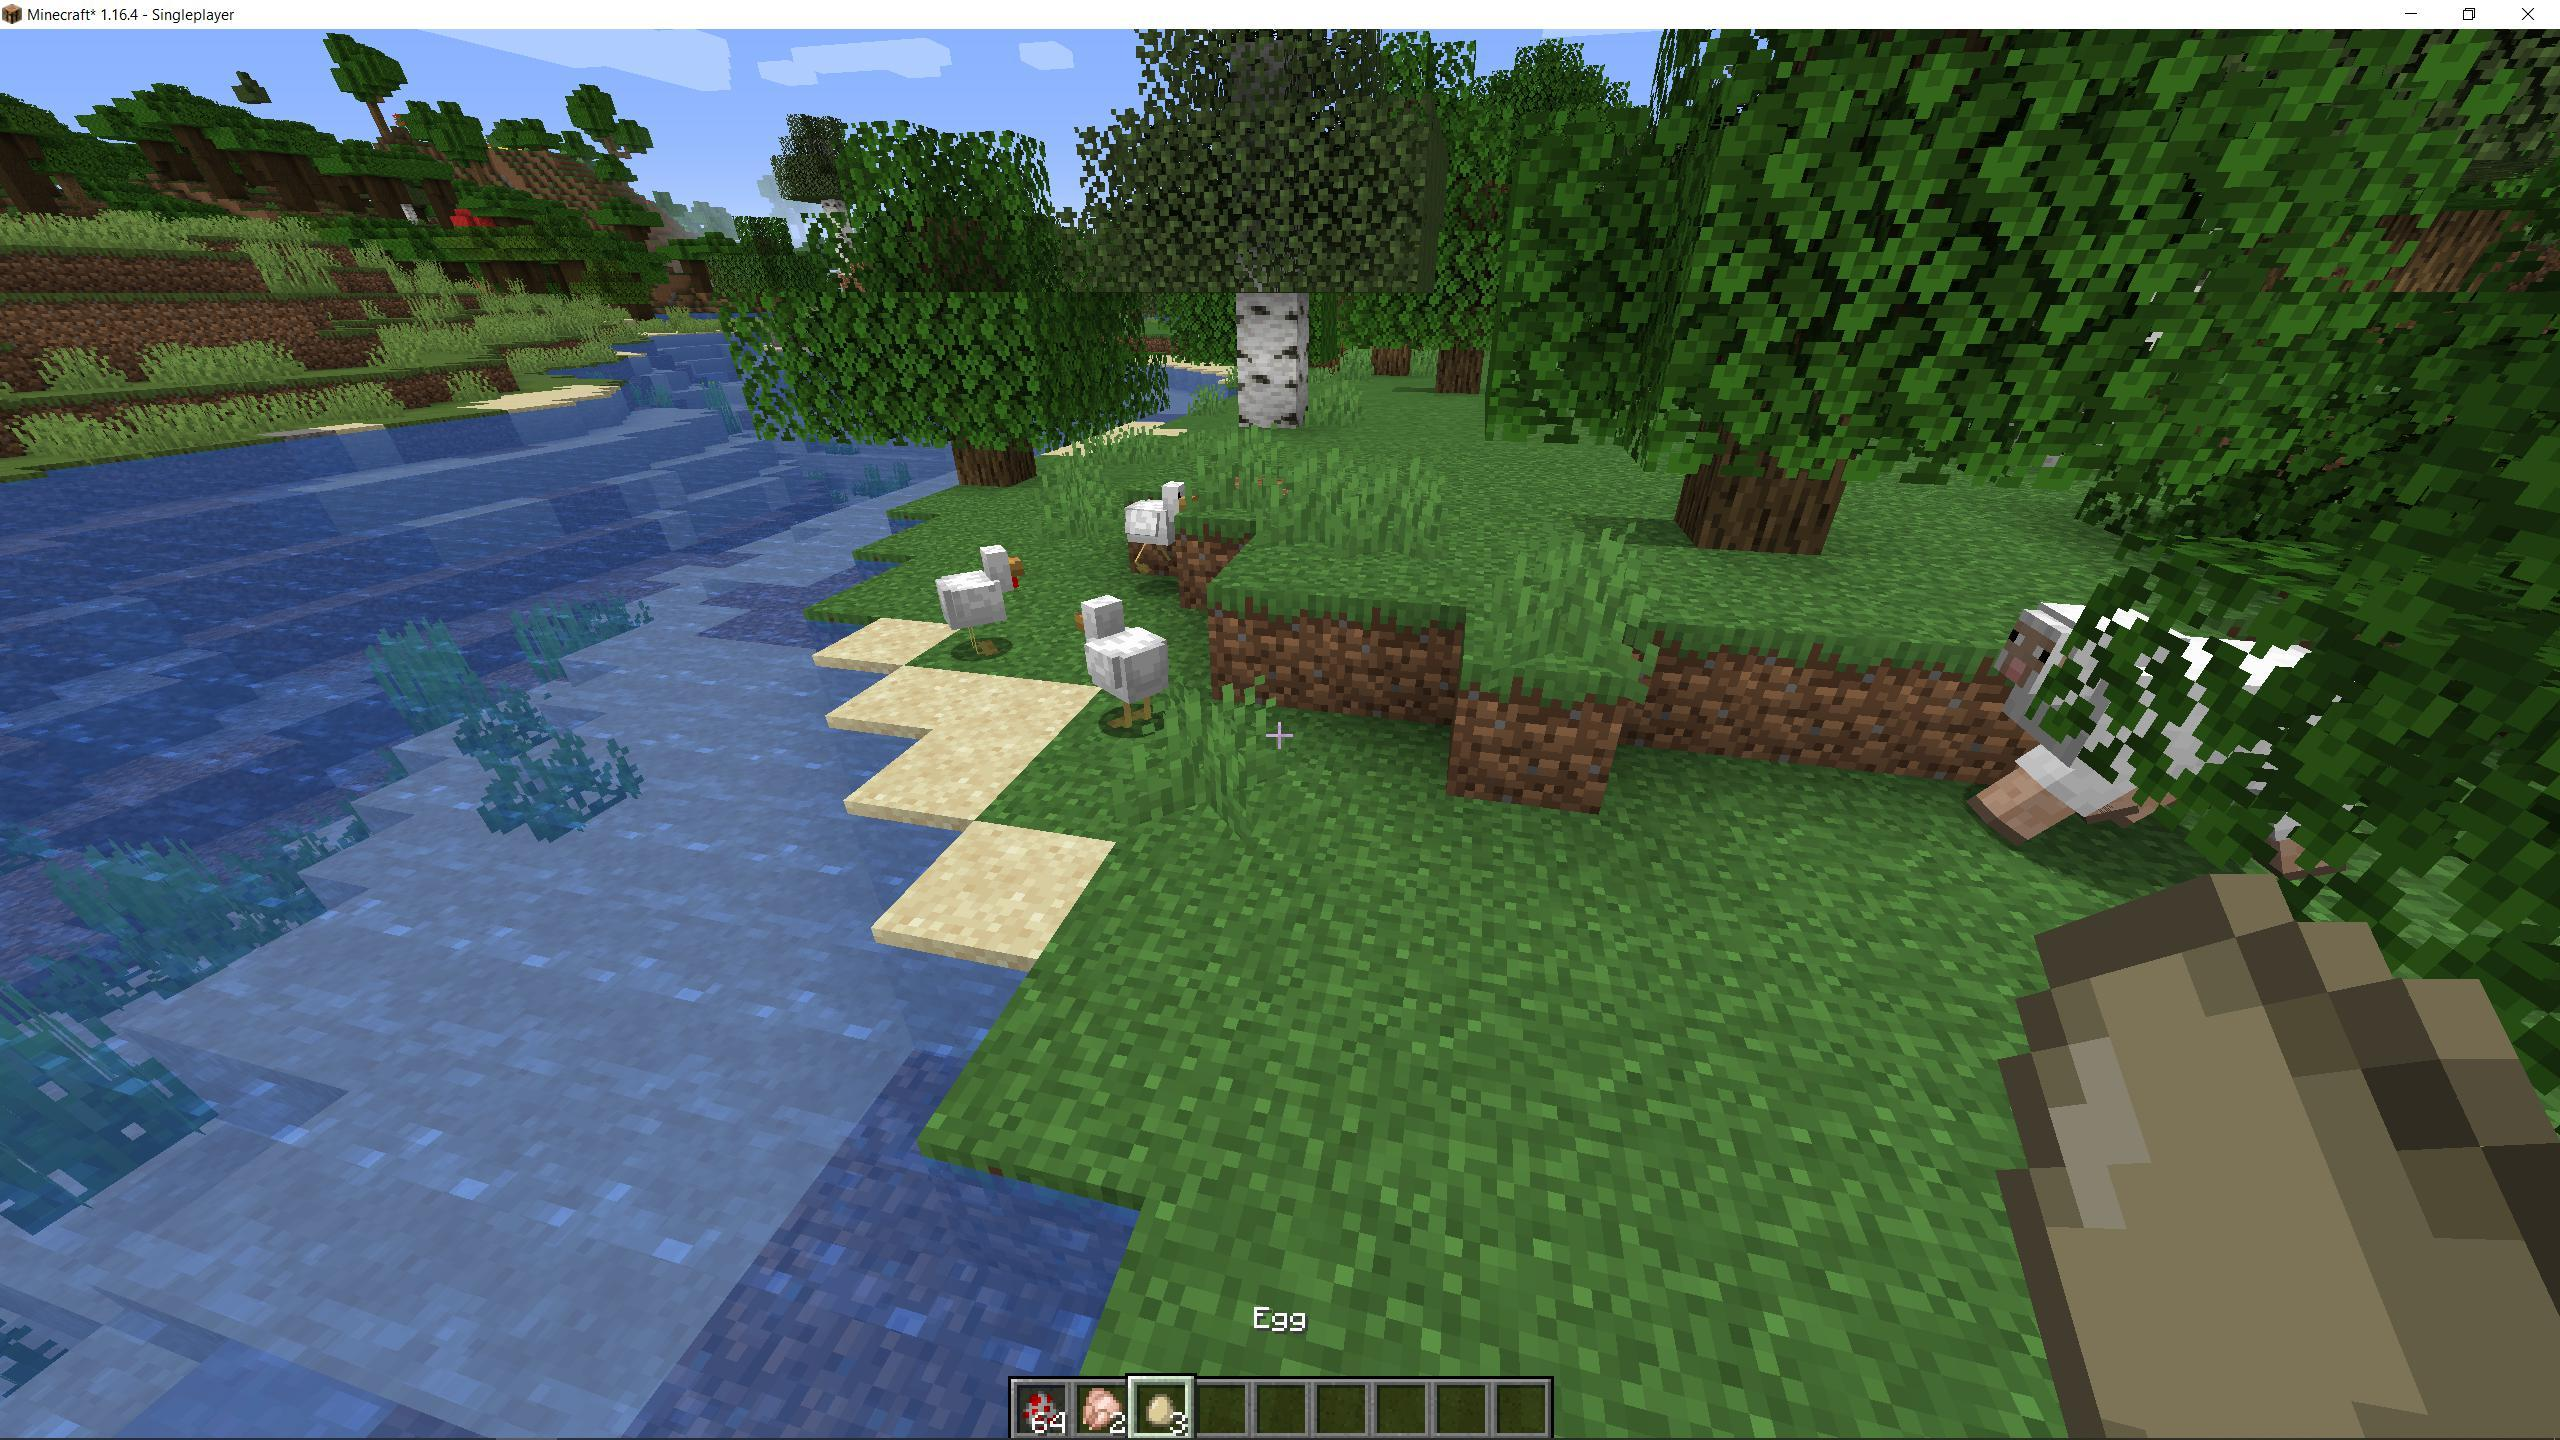chicken: (1062, 594, 1178, 735), (932, 535, 1036, 659), (1120, 476, 1187, 573)
sheep: (1971, 594, 2319, 858)
